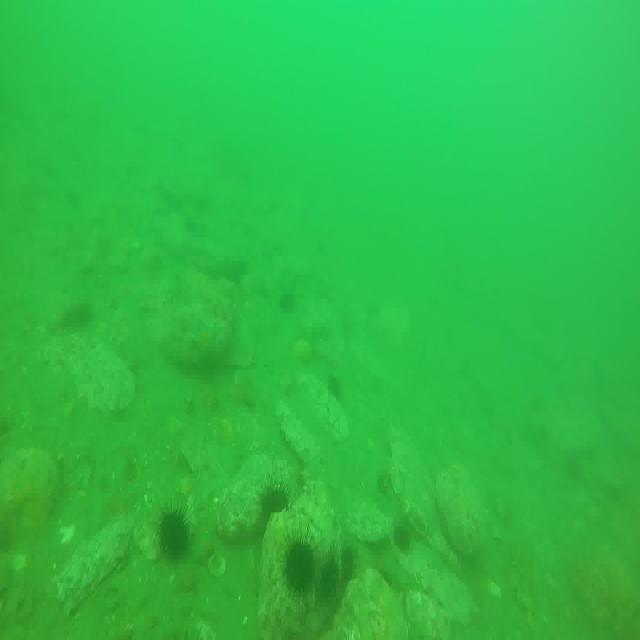echinus: (283, 531, 316, 596), (159, 506, 190, 561), (258, 481, 289, 528), (336, 542, 360, 583), (322, 556, 339, 604), (394, 518, 414, 556), (279, 287, 296, 321)
